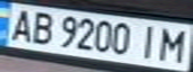0: (112, 19, 136, 56), (93, 17, 115, 54)
2: (75, 16, 96, 52)
9: (54, 12, 81, 50)
A: (3, 6, 39, 43)
B: (24, 9, 57, 46)
I: (133, 22, 163, 60)
M: (154, 25, 193, 63)
